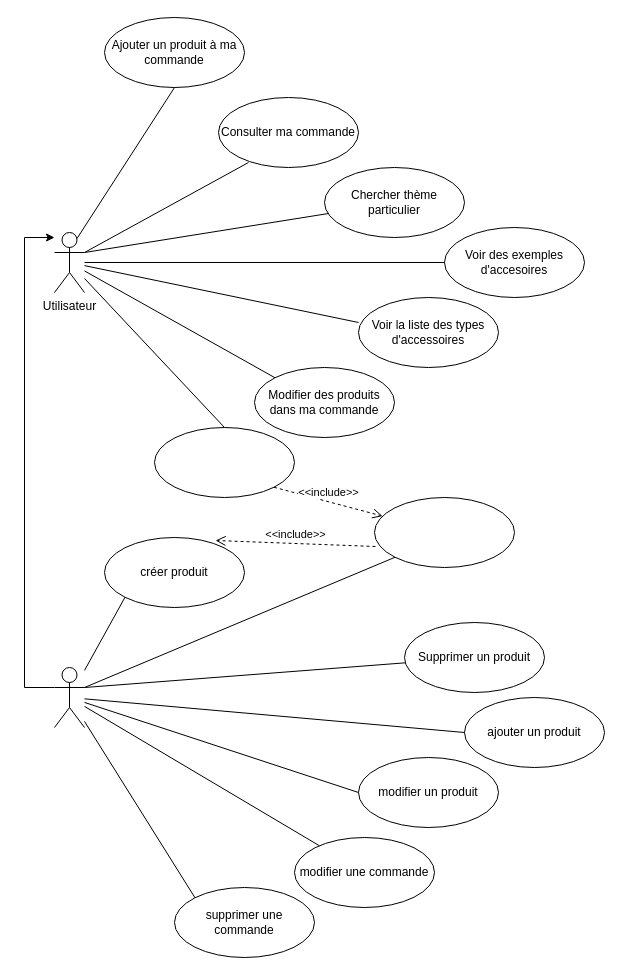
Image size: 622x975. Some labels were removed from this diagram. The centre of each missing label's shape, as x and y in pixels:
commander: (x=224, y=462)
Vendeur: (x=69, y=697)
voir commande: (x=444, y=532)
